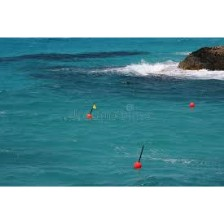buoy: (133, 160, 142, 169), (188, 101, 195, 108), (85, 112, 91, 119)
